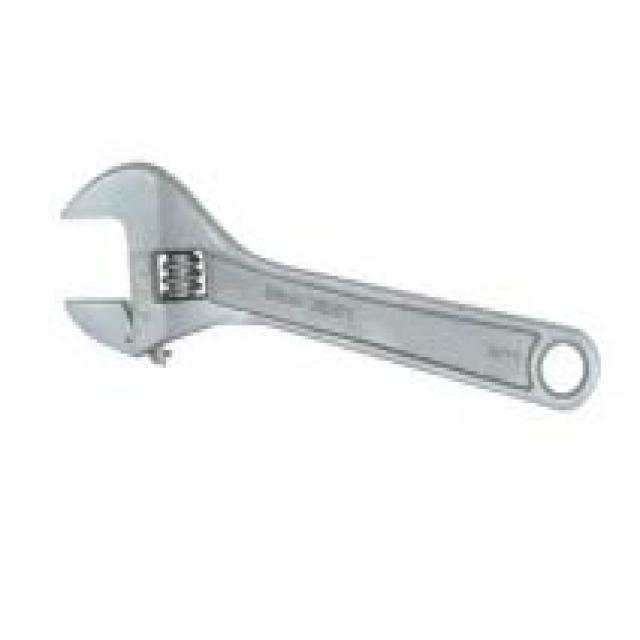wrench: (50, 150, 610, 431)
